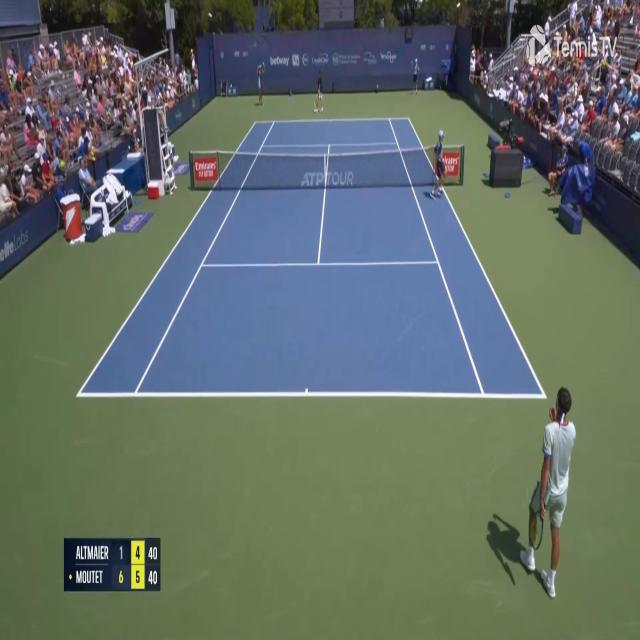tennis-player: (514, 391, 579, 602), (312, 67, 325, 114)
